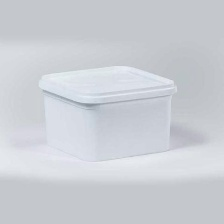plastic_box: (33, 59, 181, 166)
